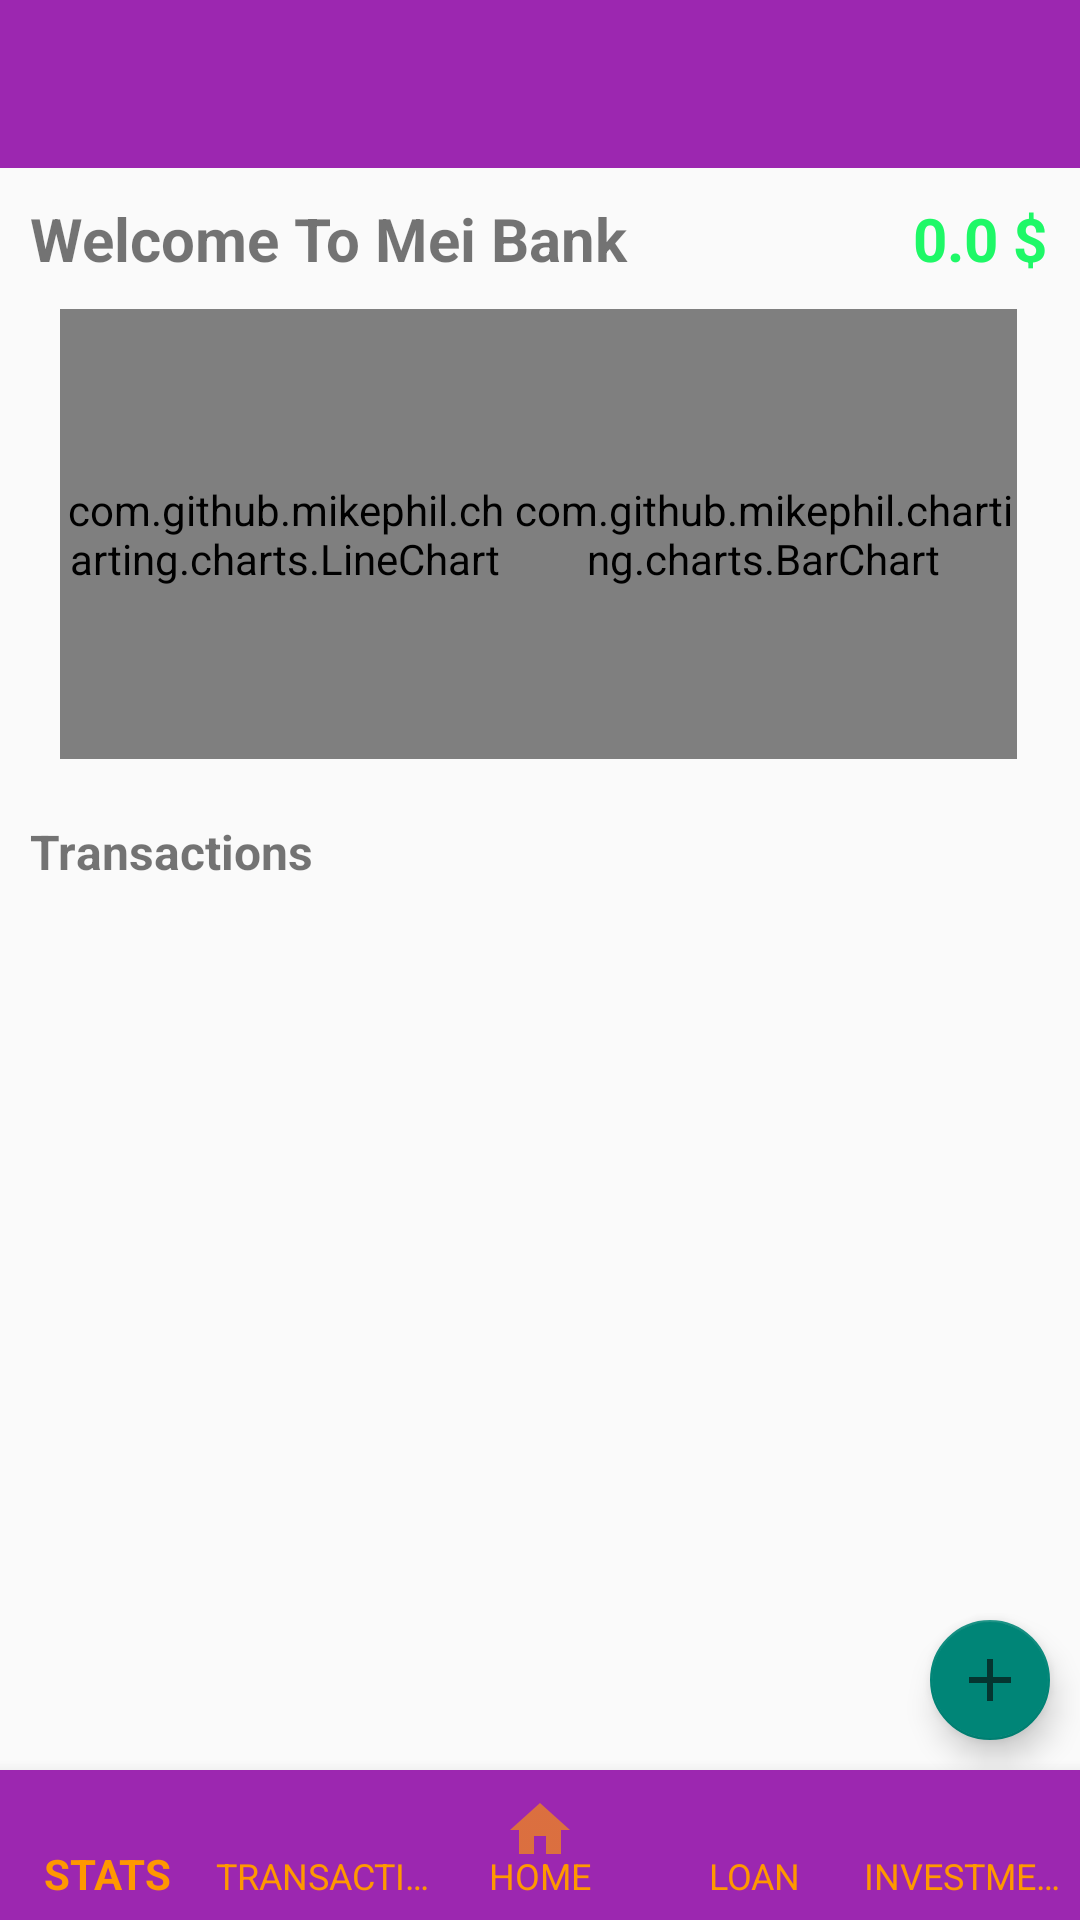

Screen size 1080×1920. Icon name, then its box in pixels as detection(x1, y1, x2, y2):
add: detection(930, 1620, 1050, 1740)
